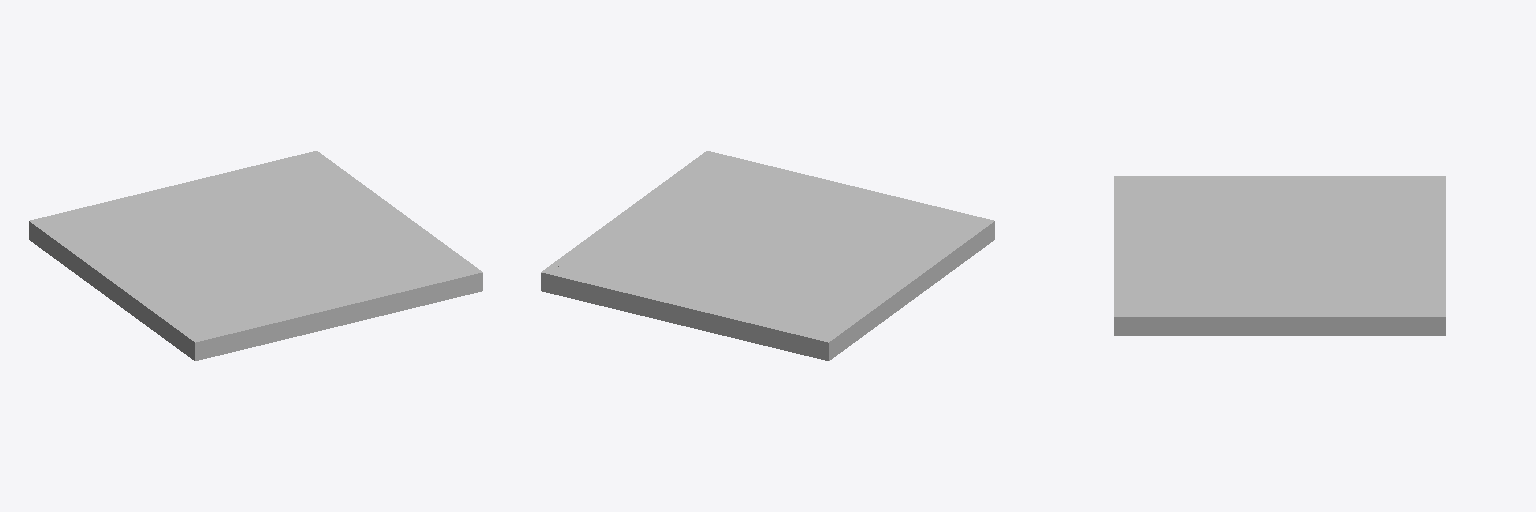
The model's file is lmpMask.obj.
3 renders of one model, left to right at view 1: azimuth 30°, elevation 25°; view 2: azimuth 150°, elevation 25°; view 3: azimuth 270°, elevation 25°, orthographic.
Size of the model in its own units: 1 by 0.0625 by 1.